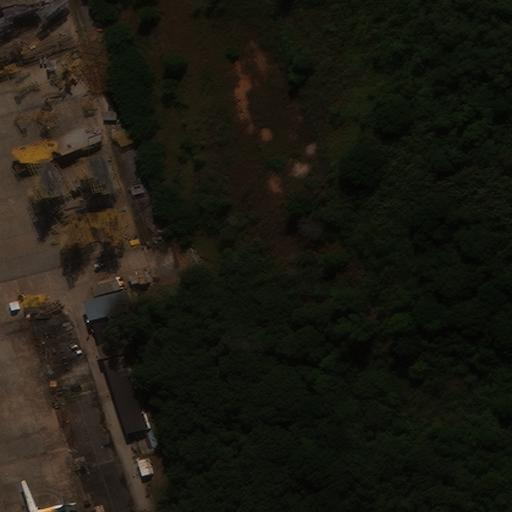Medium Civil Transport: (12, 486, 67, 512)
